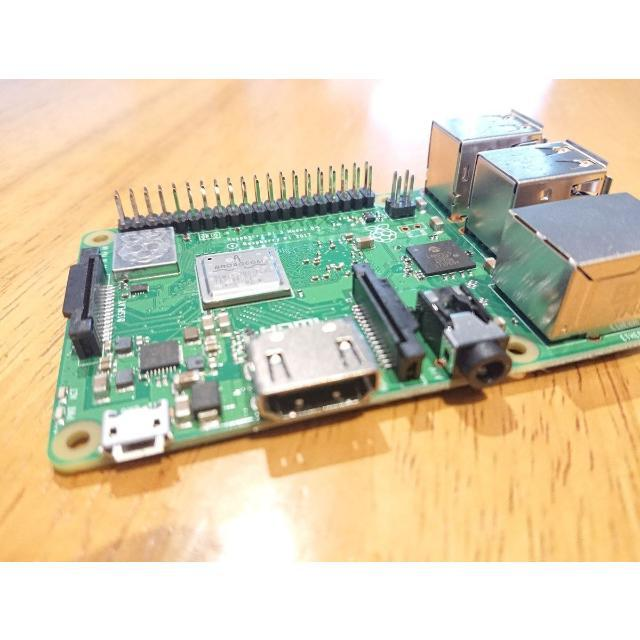Raspberry Pi 3 B-: (49, 111, 640, 470)
